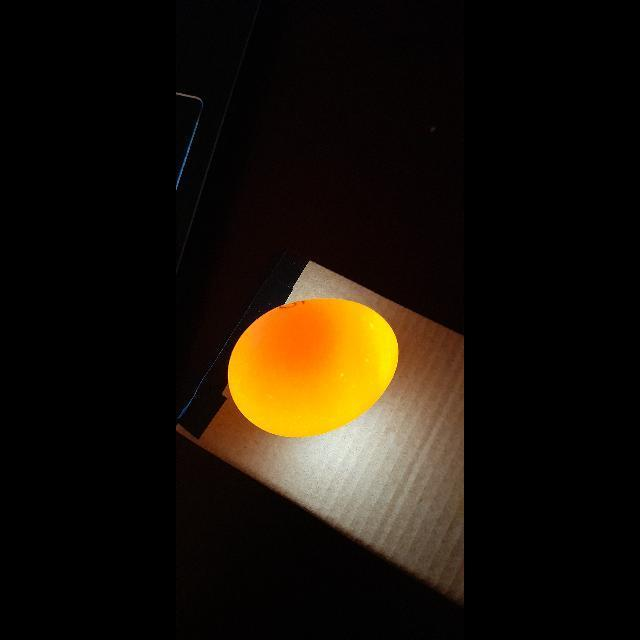Inedible: (223, 297, 406, 440)
